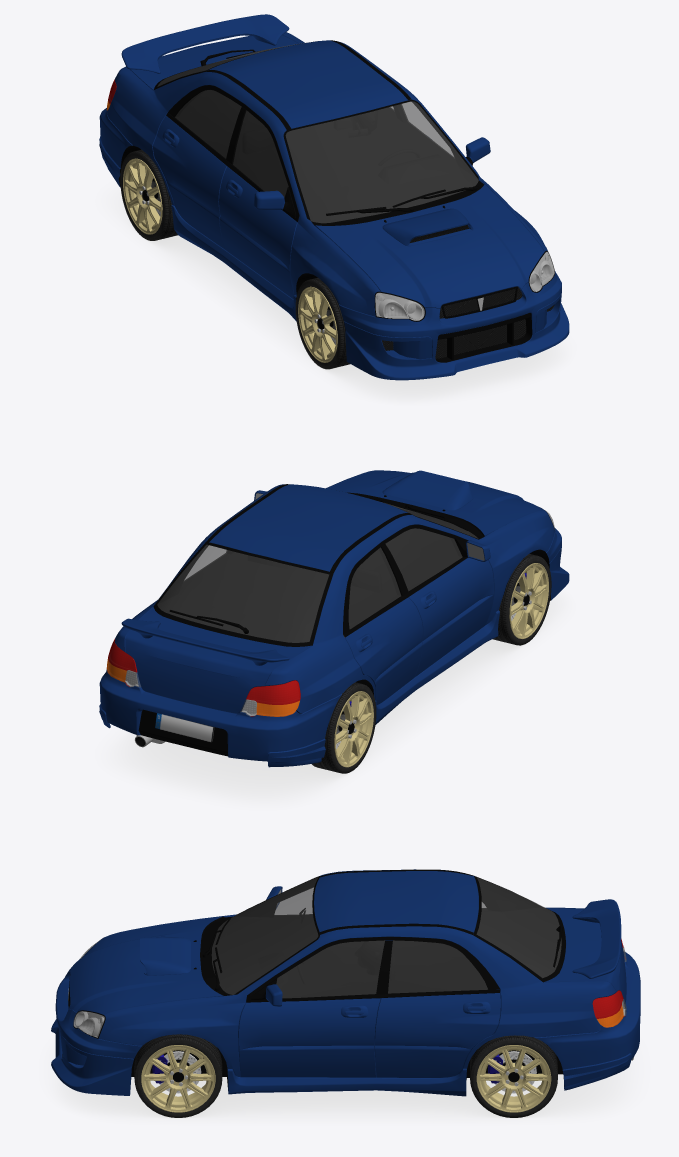
The picture shows the model from 3 angles, top to bottom: view 1: azimuth 30°, elevation 25°; view 2: azimuth 150°, elevation 25°; view 3: azimuth 270°, elevation 25°; orthographic projection. The views are drawn at different scales.
Visible parts, largest first — view 1: Body_Paint_Body_Paint_0, Glass_Body_Glass_0, Perfect_Black_Perfect_Black_0, Shadow_Shadow_0, Details_Body_Plastic_0, Details_Textures_0, Wheel_RR_Body_Alloy_0, Wheel_FR_Body_Alloy_0, Wheel_RR_Tire_0, Wheel_FR_Tire_0, Details_Body_Paint_0; view 2: Body_Paint_Body_Paint_0, Glass_Body_Glass_0, Perfect_Black_Perfect_Black_0, Shadow_Shadow_0, Details_Body_Plastic_0, Wheel_RR_Body_Alloy_0, Wheel_FR_Body_Alloy_0, Glass_Body_Glass_Red_0, Wheel_FR_Tire_0, Wheel_RR_Tire_0, Details_Textures_0, Glass_Body_Glass_Orange_0; view 3: Body_Paint_Body_Paint_0, Glass_Body_Glass_0, Perfect_Black_Perfect_Black_0, Shadow_Shadow_0, Details_Body_Plastic_0, Wheel_RL_Body_Alloy_0, Wheel_FL_Body_Alloy_0, Wheel_FL_Tire_0, Wheel_RL_Tire_0, Glass_Body_Glass_Red_0, Details_Textures_0, Details_Body_Paint_0.
Boxes of the visible parts, bbox=[...] form: Body_Paint_Body_Paint_0: bbox=[99, 14, 569, 380]; Glass_Body_Glass_0: bbox=[157, 42, 555, 320]; Perfect_Black_Perfect_Black_0: bbox=[118, 54, 478, 299]; Shadow_Shadow_0: bbox=[108, 187, 567, 402]; Details_Body_Plastic_0: bbox=[153, 40, 555, 362]; Details_Textures_0: bbox=[375, 225, 554, 358]; Wheel_RR_Body_Alloy_0: bbox=[123, 158, 162, 234]; Wheel_FR_Body_Alloy_0: bbox=[298, 286, 337, 362]; Wheel_RR_Tire_0: bbox=[120, 149, 177, 240]; Wheel_FR_Tire_0: bbox=[295, 277, 350, 369]; Details_Body_Paint_0: bbox=[253, 137, 490, 209]; Body_Paint_Body_Paint_0: bbox=[99, 470, 569, 767]; Glass_Body_Glass_0: bbox=[125, 502, 555, 716]; Perfect_Black_Perfect_Black_0: bbox=[135, 495, 550, 746]; Shadow_Shadow_0: bbox=[108, 592, 567, 804]; Details_Body_Plastic_0: bbox=[138, 484, 554, 756]; Wheel_RR_Body_Alloy_0: bbox=[334, 691, 373, 767]; Wheel_FR_Body_Alloy_0: bbox=[509, 563, 548, 638]; Glass_Body_Glass_Red_0: bbox=[108, 639, 300, 716]; Wheel_FR_Tire_0: bbox=[493, 554, 551, 645]; Wheel_RR_Tire_0: bbox=[312, 682, 376, 773]; Details_Textures_0: bbox=[125, 514, 549, 742]; Glass_Body_Glass_Orange_0: bbox=[106, 659, 299, 716]; Body_Paint_Body_Paint_0: bbox=[51, 869, 640, 1096]; Glass_Body_Glass_0: bbox=[73, 877, 626, 1037]; Perfect_Black_Perfect_Black_0: bbox=[130, 877, 564, 1090]; Shadow_Shadow_0: bbox=[50, 1044, 636, 1121]; Details_Body_Plastic_0: bbox=[62, 869, 565, 1057]; Wheel_RL_Body_Alloy_0: bbox=[476, 1045, 551, 1112]; Wheel_FL_Body_Alloy_0: bbox=[141, 1045, 215, 1112]; Wheel_FL_Tire_0: bbox=[134, 1034, 222, 1117]; Wheel_RL_Tire_0: bbox=[470, 1035, 557, 1117]; Glass_Body_Glass_Red_0: bbox=[592, 939, 625, 1018]; Details_Textures_0: bbox=[74, 1001, 625, 1037]; Details_Body_Paint_0: bbox=[265, 886, 282, 1006].
Bounding box in the file's own units: 2.59 × 1.45 × 4.9.
Materials: 11 (3 with a texture image).
